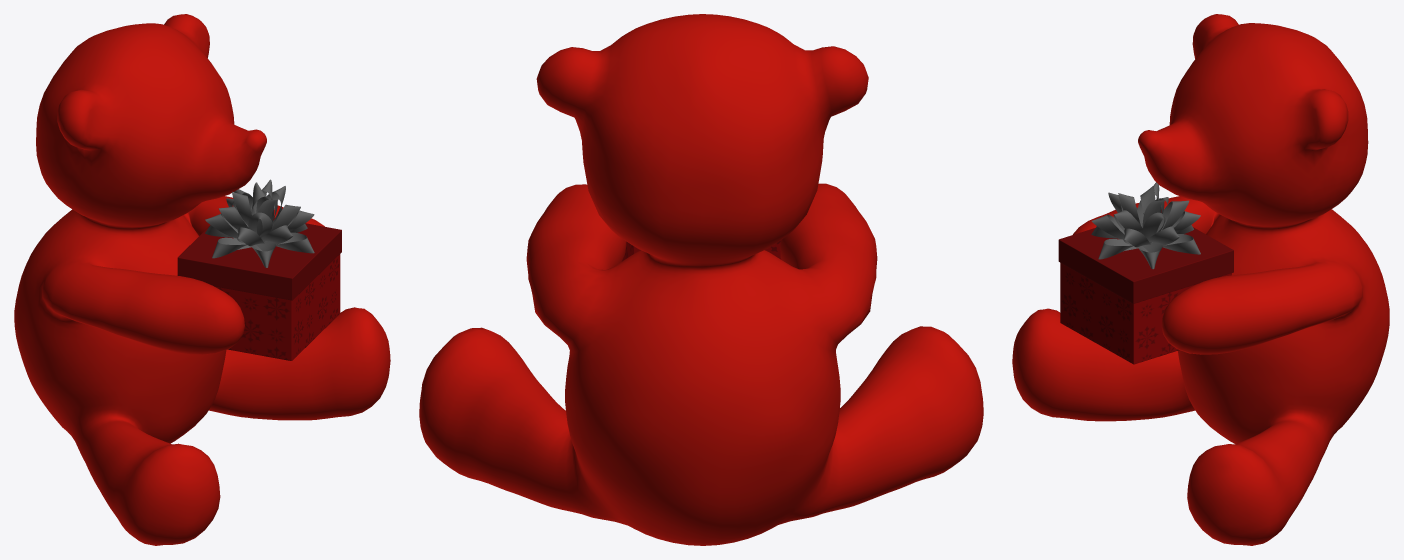
Rendered from oso_regalos3.glb.
3 renders of one model, left to right at view 1: azimuth 30°, elevation 25°; view 2: azimuth 150°, elevation 25°; view 3: azimuth 270°, elevation 25°, orthographic. The views are drawn at different scales.
Parts seen in each view (by area): view 1: Oso_Regalo:Group42068, cgaxis_models_39_28_02_4.001, cgaxis_models_39_28_04_3.001; view 2: Oso_Regalo:Group42068; view 3: Oso_Regalo:Group42068, cgaxis_models_39_28_02_4.001, cgaxis_models_39_28_04_3.001.
Boxes of the visible parts, x1=… form: Oso_Regalo:Group42068: x1=14, y1=14, x2=390, y2=545; cgaxis_models_39_28_02_4.001: x1=177, y1=217, x2=341, y2=360; cgaxis_models_39_28_04_3.001: x1=205, y1=179, x2=314, y2=267; Oso_Regalo:Group42068: x1=419, y1=14, x2=983, y2=545; Oso_Regalo:Group42068: x1=1012, y1=14, x2=1389, y2=545; cgaxis_models_39_28_02_4.001: x1=1058, y1=209, x2=1233, y2=364; cgaxis_models_39_28_04_3.001: x1=1091, y1=182, x2=1200, y2=269.
Bounding box in the file's own units: 0.9519 × 1.08 × 0.8944.
Materials: 3 (1 with a texture image).
